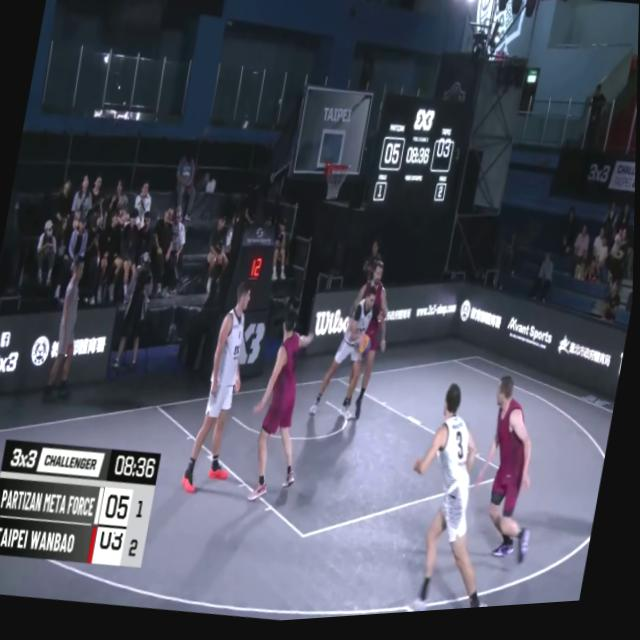ball: (356, 335, 376, 366)
hoop: (318, 159, 354, 210)
player: (386, 373, 534, 619), (182, 276, 265, 504), (461, 379, 556, 571), (236, 310, 321, 512), (338, 260, 402, 430), (310, 282, 383, 428)
